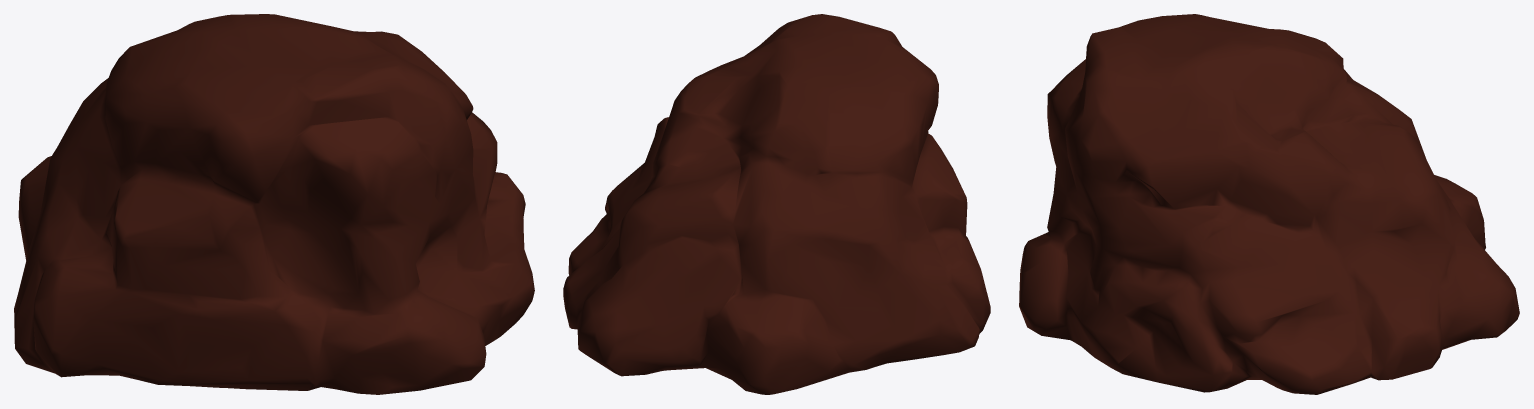
File: Nature_Medium_Rock3.FBX
3 renders of one model, left to right at view 1: azimuth 30°, elevation 25°; view 2: azimuth 150°, elevation 25°; view 3: azimuth 270°, elevation 25°, orthographic. The views are drawn at different scales.
Parts seen in each view (by area): view 1: Rocks_Medium3; view 2: Rocks_Medium3; view 3: Rocks_Medium3.
Boxes of the visible parts, x1,y1,x2,y2 form: Rocks_Medium3: (14,14,534,394); Rocks_Medium3: (563,14,990,394); Rocks_Medium3: (1019,14,1519,394).
Size of the model in its own units: 271 by 156 by 280.
